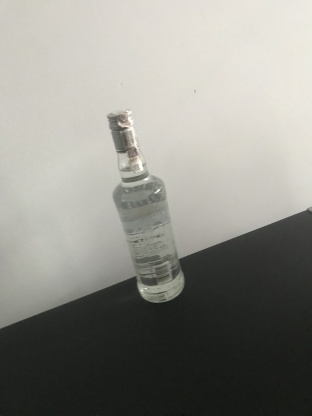nakretka: (105, 107, 140, 154)
